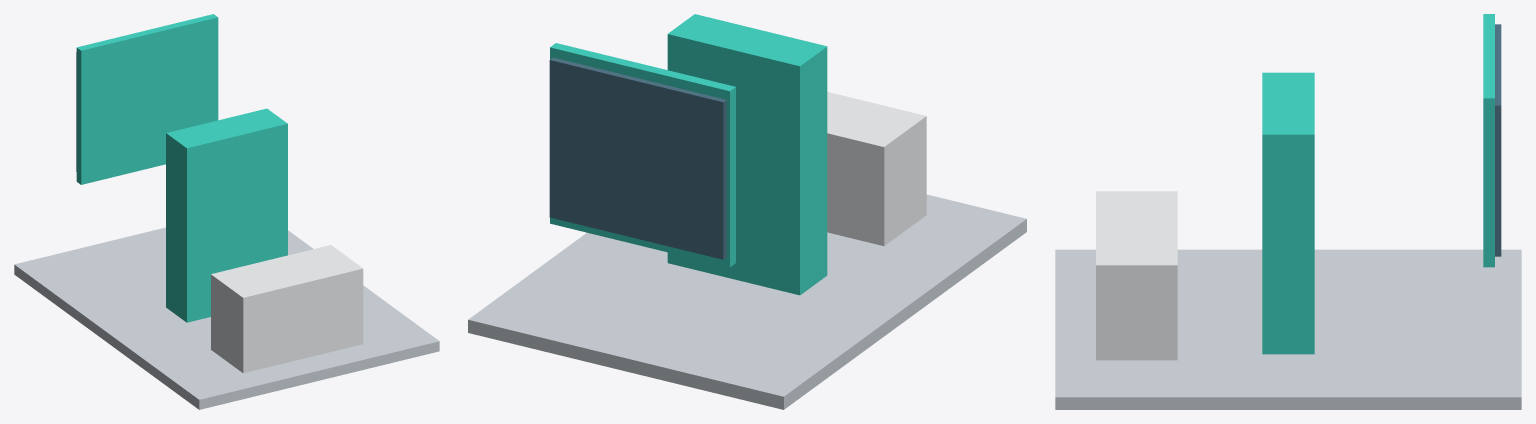
The picture shows the model from 3 angles, left to right: view 1: azimuth 30°, elevation 25°; view 2: azimuth 150°, elevation 25°; view 3: azimuth 270°, elevation 25°; orthographic projection. The views are drawn at different scales.
Visible parts, largest first — view 1: Exhibition Booth Concept; view 2: Exhibition Booth Concept; view 3: Exhibition Booth Concept.
Boxes of the visible parts, left/top/right/bottom form: Exhibition Booth Concept: left=14, top=14, right=439, bottom=409; Exhibition Booth Concept: left=468, top=14, right=1026, bottom=409; Exhibition Booth Concept: left=1055, top=14, right=1521, bottom=409.
Bounding box in the file's own units: 3 × 2.65 × 4.
